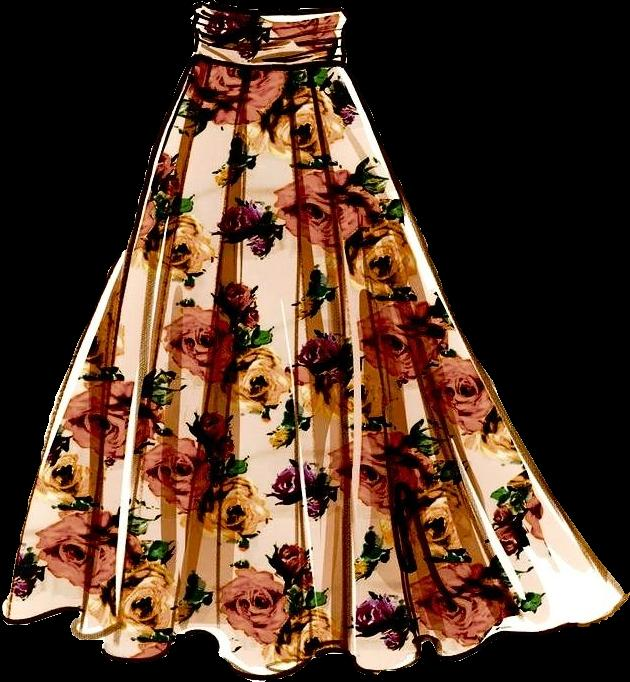Hemline: (0, 594, 629, 677)
Waistline: (193, 48, 343, 69), (202, 0, 342, 16)
